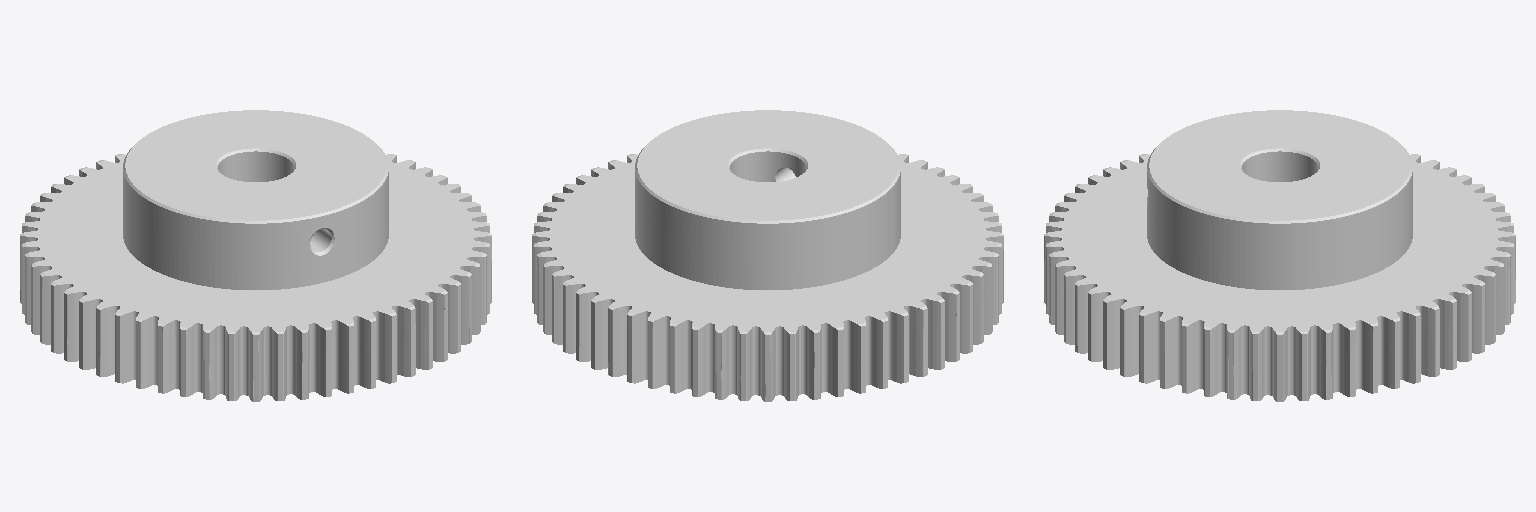
robot.urdf — industreal_gear_large:
<?xml version="1.0"?>
<robot name="industreal_gear_large">
    <link name="industreal_gear_large">
        <visual>
            <geometry>
                <mesh filename="../mesh/TVB_mesh/manifeel_gear_large.obj" scale="1 1 1"/>
            </geometry>
            <material name="gear_metal">
                <color rgba="0.9 0.9 0.9 1.0"/>
            </material>
        </visual>
        <collision>
            <geometry>
                <mesh filename="../mesh/TVB_mesh/manifeel_gear_large.obj" scale="1 1 1"/>
            </geometry>
            <sdf resolution="32"/>
        </collision>
    </link>
</robot>

--- What the picture shows (computed from the rendered views, not written in the file) ---
The picture shows the robot from 3 angles, left to right: view 1: azimuth 30°, elevation 25°; view 2: azimuth 150°, elevation 25°; view 3: azimuth 270°, elevation 25°; orthographic projection.
Model industreal_gear_large with 1 links and 0 joints (none), rooted at industreal_gear_large, posed all joints at 0.
Links seen in each view (by area): view 1: industreal_gear_large; view 2: industreal_gear_large; view 3: industreal_gear_large.
Boxes of the visible links, left/top/right/bottom form: industreal_gear_large: left=20, top=110, right=491, bottom=401; industreal_gear_large: left=532, top=110, right=1003, bottom=401; industreal_gear_large: left=1044, top=110, right=1515, bottom=401.
Size in the robot's own frame: 0.062 by 0.062 by 0.02 metres.
Meshes: 1 distinct files referenced, 1 mesh visuals loaded (1 OBJ).
